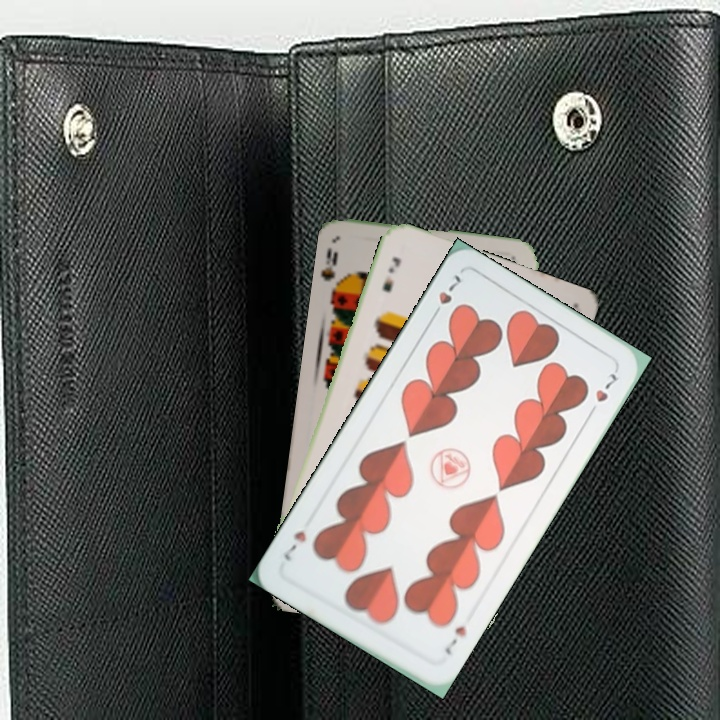E7: (378, 253, 403, 295)
H7: (427, 270, 464, 322), (441, 621, 469, 658)
S9: (319, 243, 347, 299)
